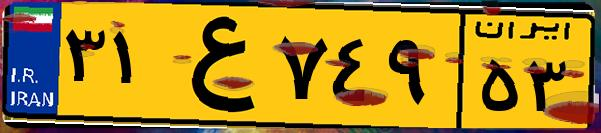1: (110, 28, 158, 98)
3: (57, 26, 110, 100), (525, 38, 570, 115)
4: (330, 28, 385, 110)
5: (475, 38, 525, 113)
7: (270, 28, 330, 110)
9: (385, 28, 445, 110)
ع: (158, 12, 270, 120)
